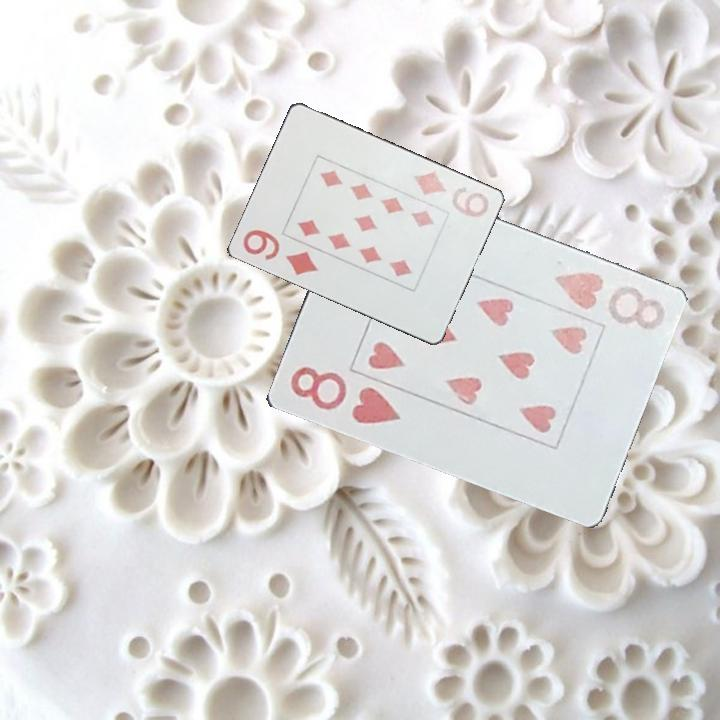8h: (550, 268, 668, 333), (286, 363, 403, 428)
9d: (239, 224, 322, 280), (410, 166, 492, 221)
